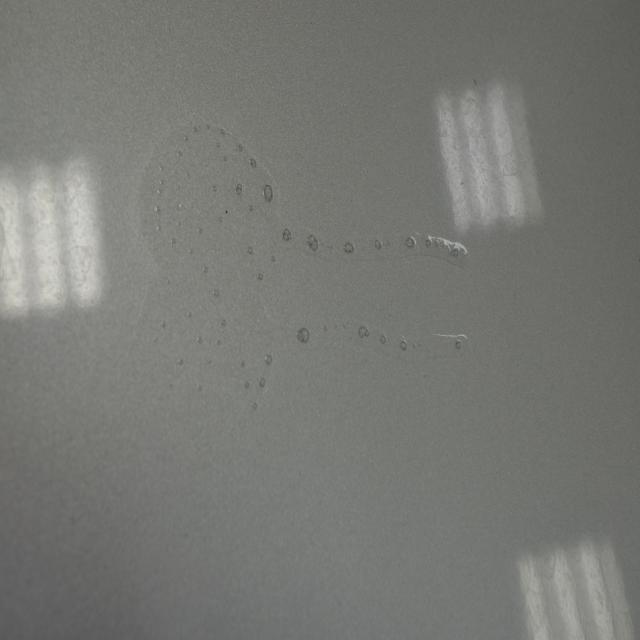runs: (140, 121, 469, 433)
water marks: (0, 181, 100, 304), (478, 131, 532, 198)
